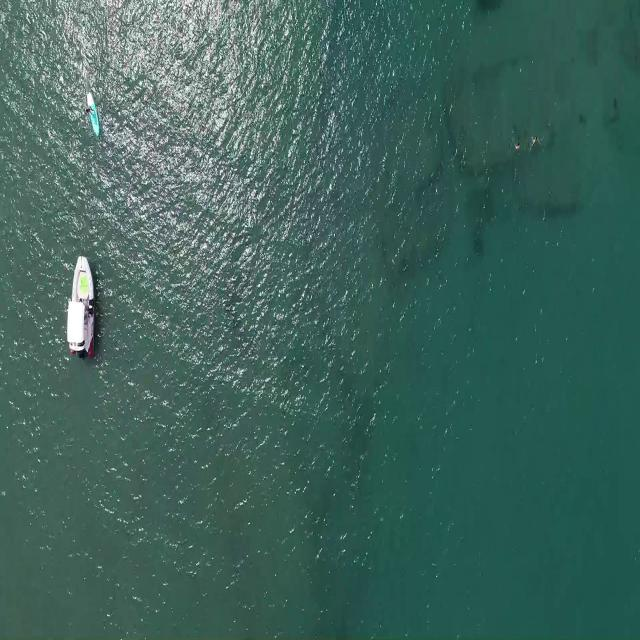boat: (66, 243, 98, 364)
person: (529, 134, 544, 147), (86, 102, 97, 117), (514, 140, 522, 150)
surfboard: (85, 90, 100, 139)
